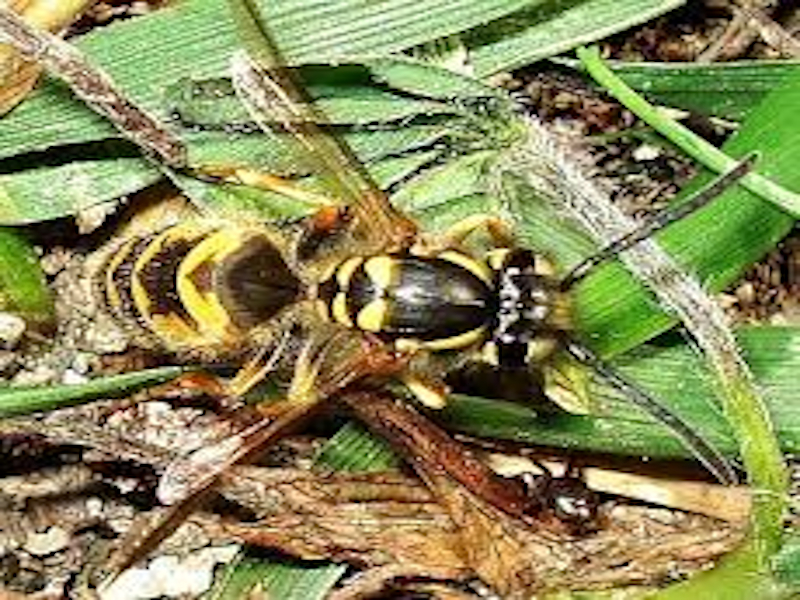chax: (1, 72, 686, 429)
